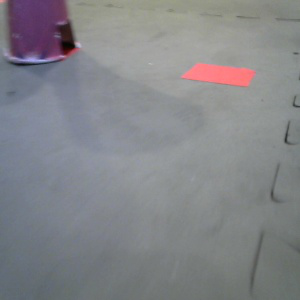middle: (3, 1, 81, 63)
